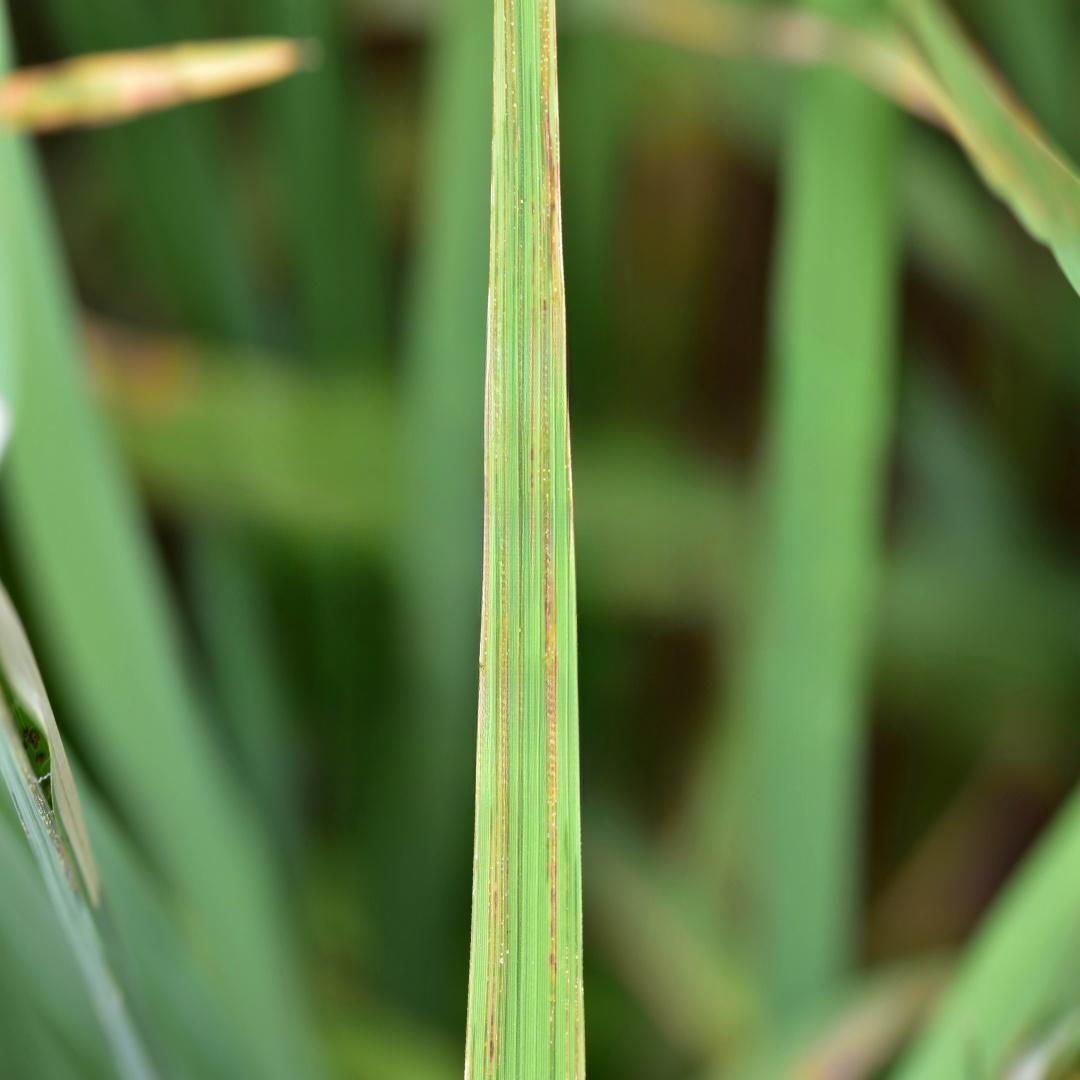BLS: (465, 0, 510, 1079), (538, 0, 575, 1078), (516, 0, 524, 1078), (528, 66, 537, 592), (503, 1, 520, 162), (564, 831, 570, 1079), (574, 928, 579, 1079)
LEAF: (464, 0, 586, 1079)
